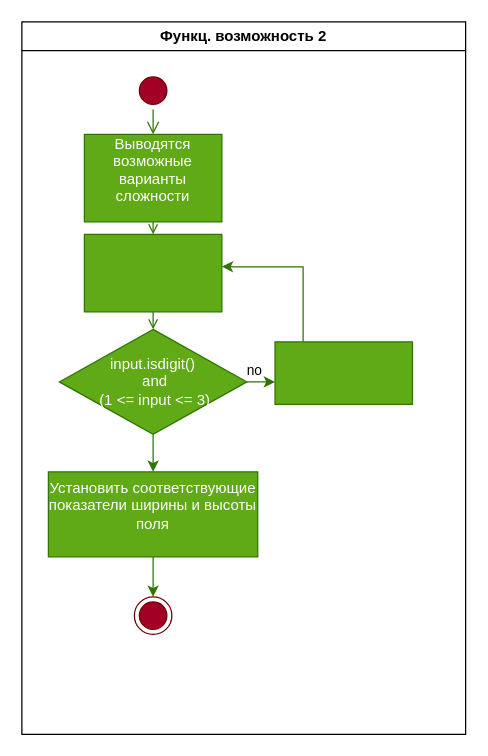
Some shapes in this 488 by 756 pixel diagram are drawn without their labels. The centre of each missing label's shape, as x and y in pixels:
Вывести информацию об ошибке: (343,372)
Запрашивается решение пользователя: (152,272)
